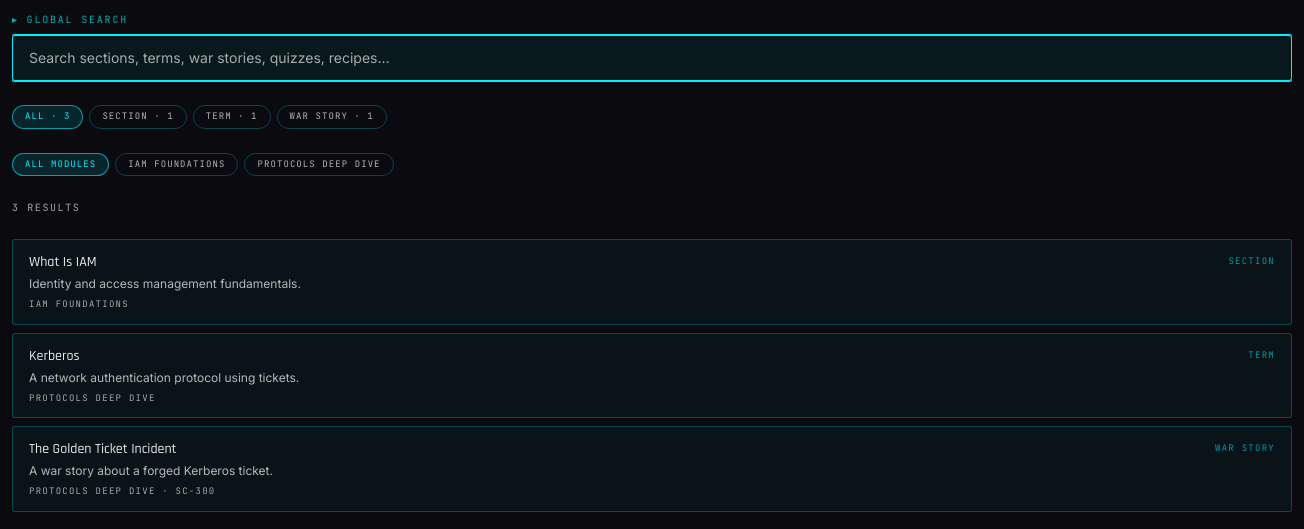
Test: SearchResults › narrows results as the user types a query (Fuse)
The width and height of the screenshot is (1304, 529).
Type "kerberos" into the search field named "search the curriculum" at (652, 58), box [12,35,1292,81]
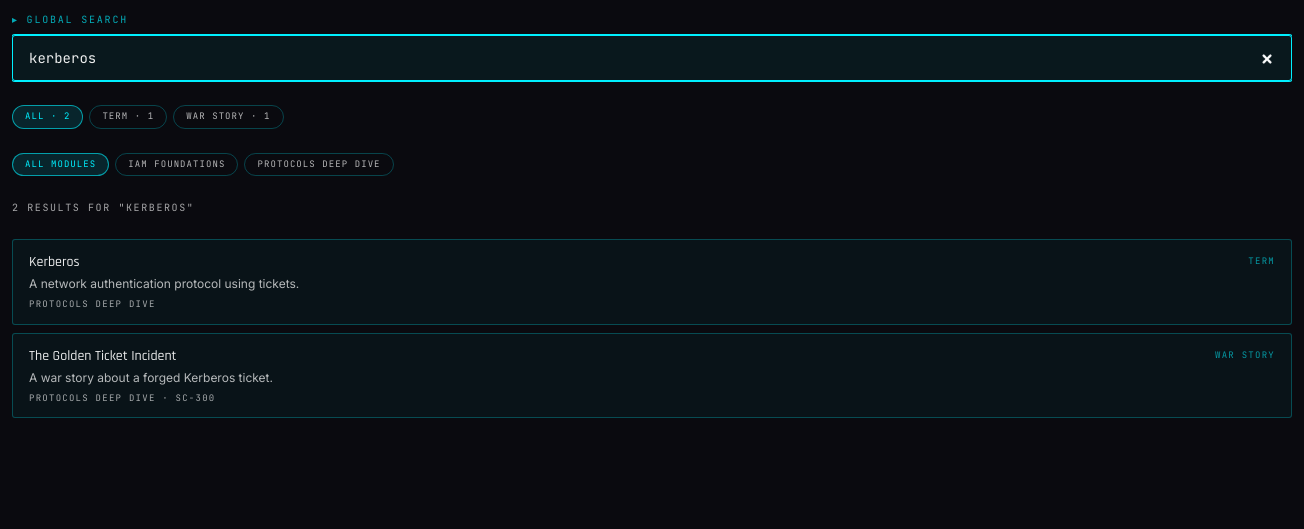
Expected: the text "Kerberos" is shown, [29,252,80,272]
Result: the link "What Is IAM" is gone
